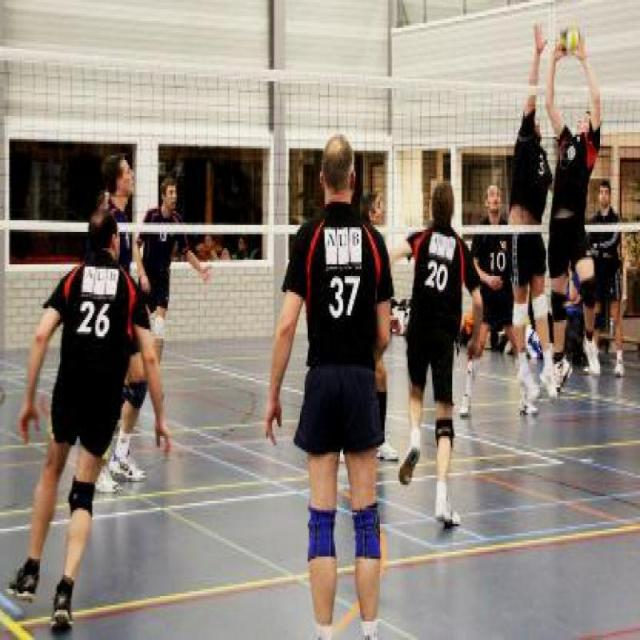volleyball: (557, 21, 578, 54)
